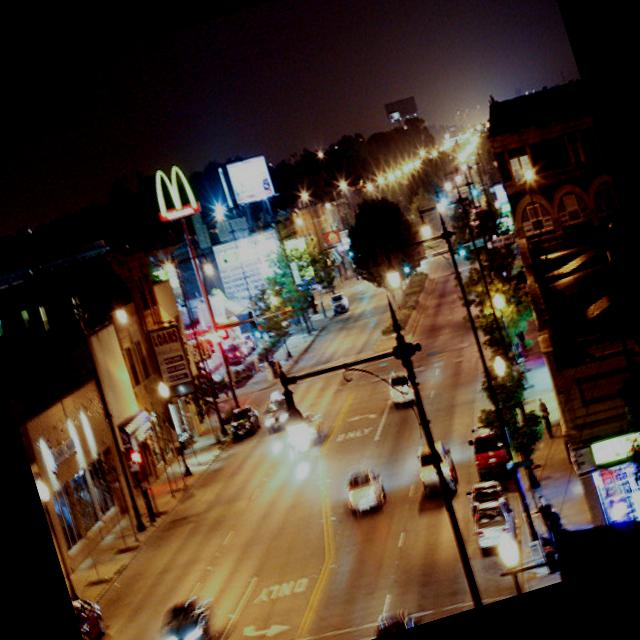Vehicle: (463, 492, 528, 562), (141, 591, 220, 640), (410, 436, 463, 502), (411, 436, 462, 502), (338, 462, 391, 520), (466, 426, 516, 487), (460, 476, 510, 526), (363, 602, 422, 640), (69, 589, 110, 640), (257, 394, 295, 435), (225, 402, 263, 440), (385, 370, 416, 406), (328, 290, 351, 315)
